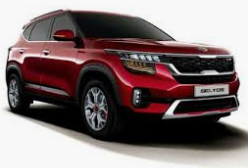car: (4, 8, 242, 148)
